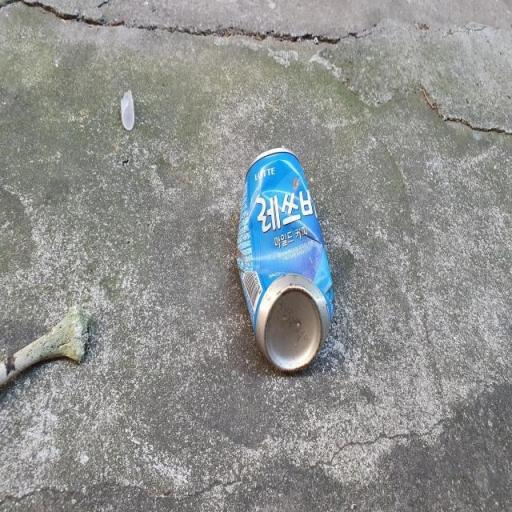metal: (226, 134, 338, 398)
